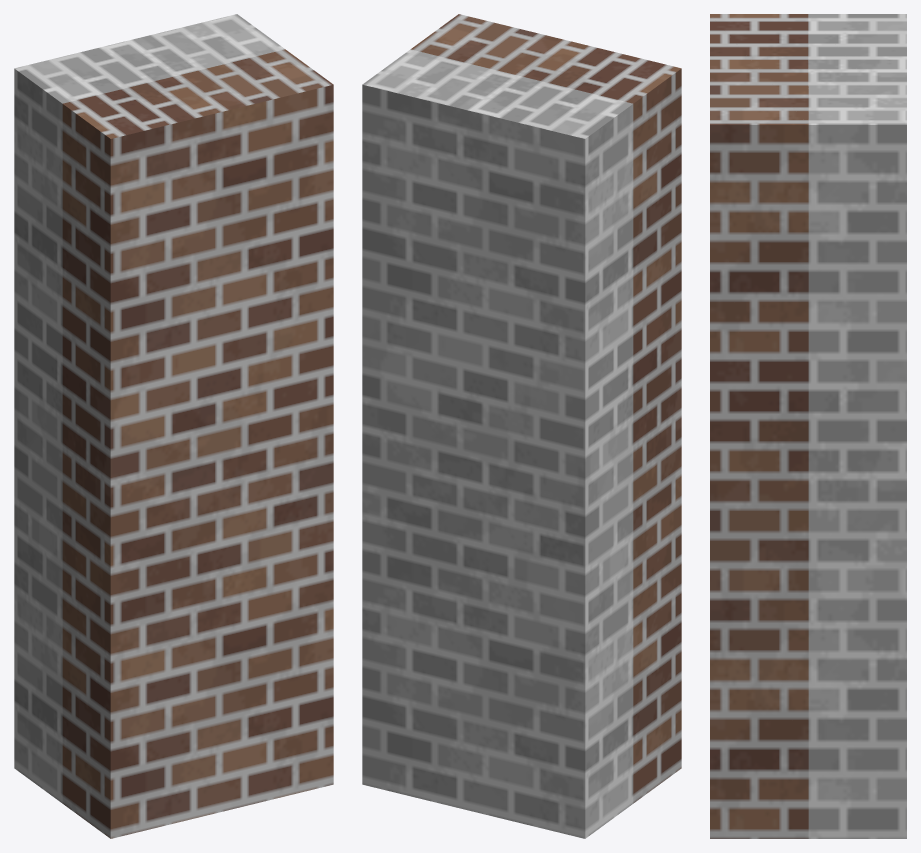
The model's file is Middle_Wall_002.FBX.
The picture shows the model from 3 angles, left to right: view 1: azimuth 30°, elevation 25°; view 2: azimuth 150°, elevation 25°; view 3: azimuth 270°, elevation 25°; orthographic projection. The views are drawn at different scales.
Parts seen in each view (by area): view 1: Middle_Wall_002; view 2: Middle_Wall_002; view 3: Middle_Wall_002.
Part boxes in pixels (<box>): Middle_Wall_002: <box>14,14,333,838</box>; Middle_Wall_002: <box>362,14,681,838</box>; Middle_Wall_002: <box>710,14,906,838</box>.
Bounding box in the file's own units: 100 × 75 × 300.
